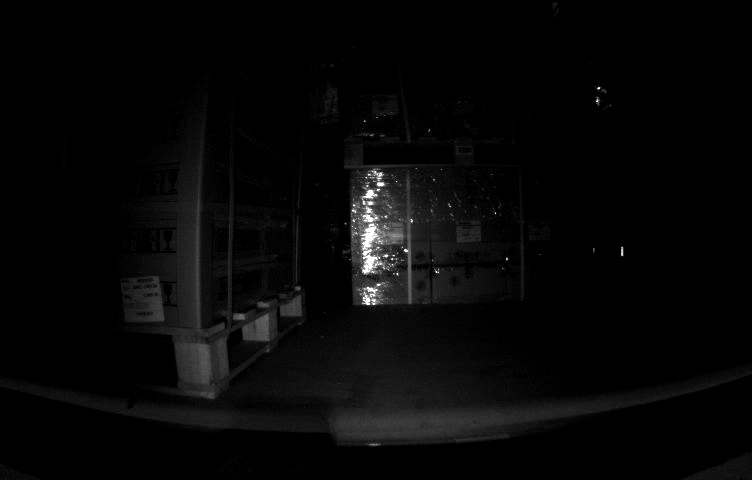True Barcode: (120, 274, 163, 324)
